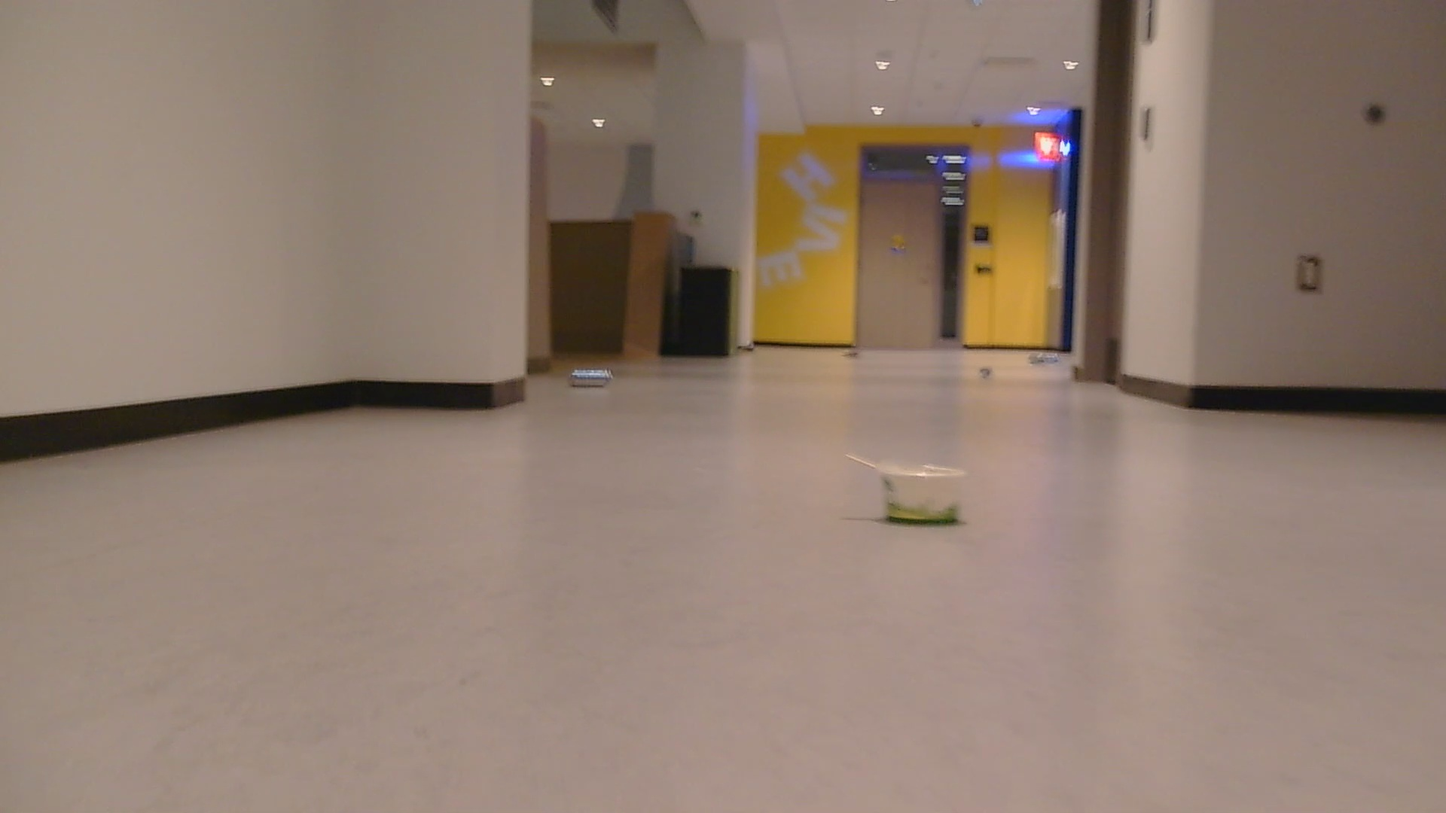carton: (853, 443, 988, 539), (566, 367, 622, 387), (1023, 349, 1072, 371), (833, 343, 869, 368), (978, 364, 999, 380)
